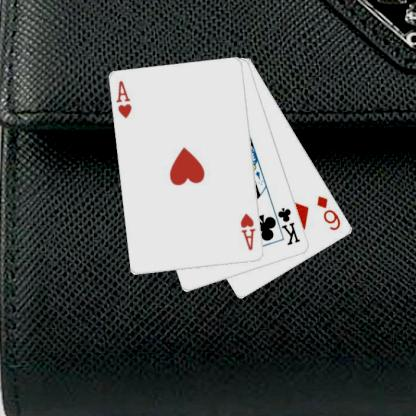6D: (314, 193, 342, 232)
AH: (114, 78, 134, 119), (238, 211, 257, 252)
KC: (269, 204, 302, 247)
